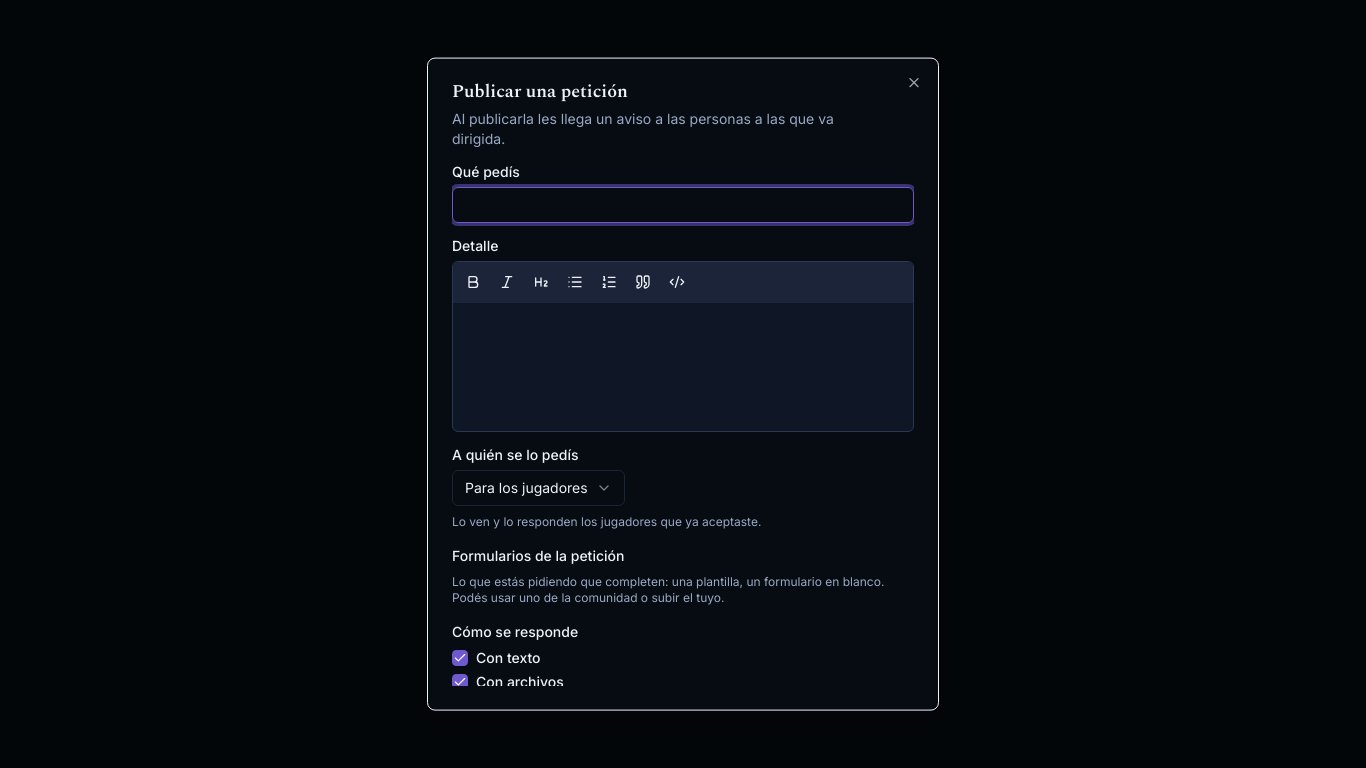
TaskFormDialog › offers only the table players as recipients
Click the dropdown named "A quién se lo pedís" at coordinates (538, 488), box [452,470,625,506]
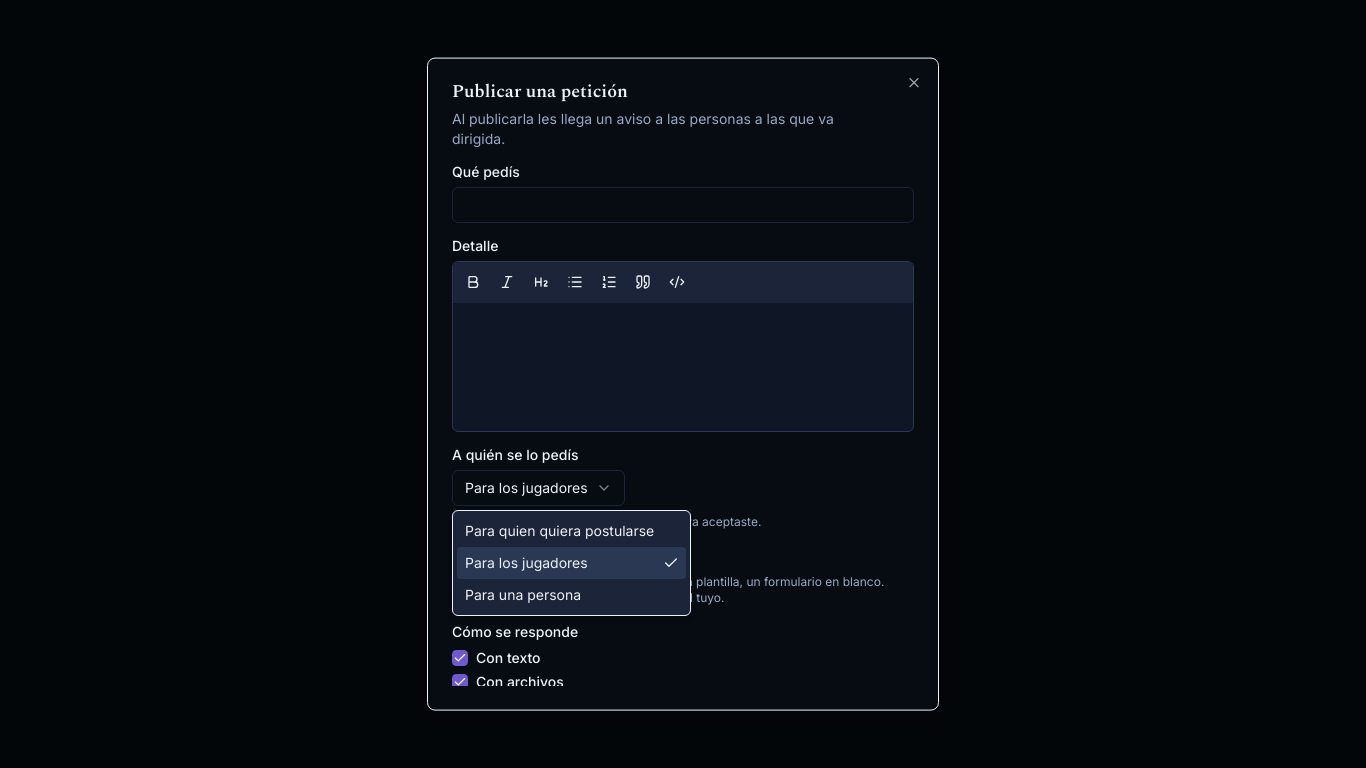
Click the option "Para una persona" at coordinates (523, 594), box [465,586,581,603]
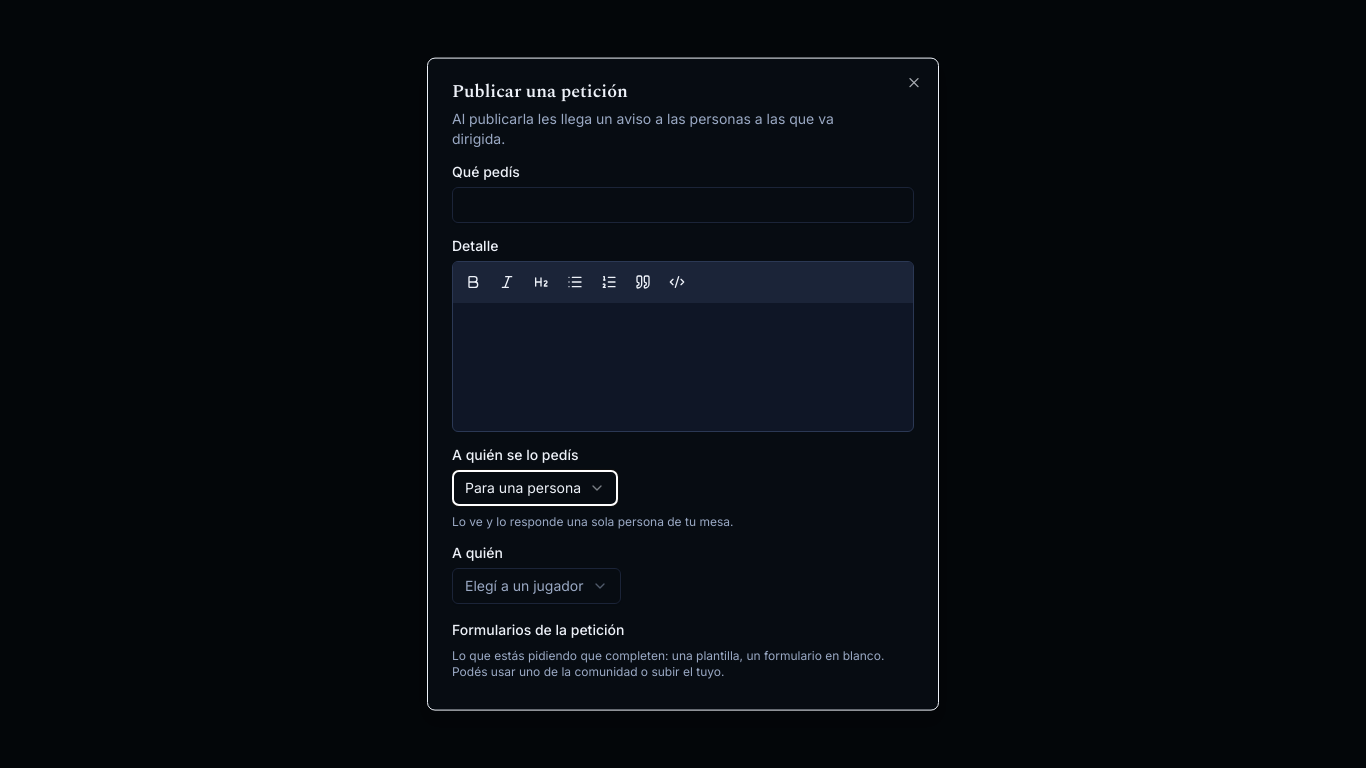
Click the dropdown named "A quién" at coordinates (536, 586), box [452,568,620,604]
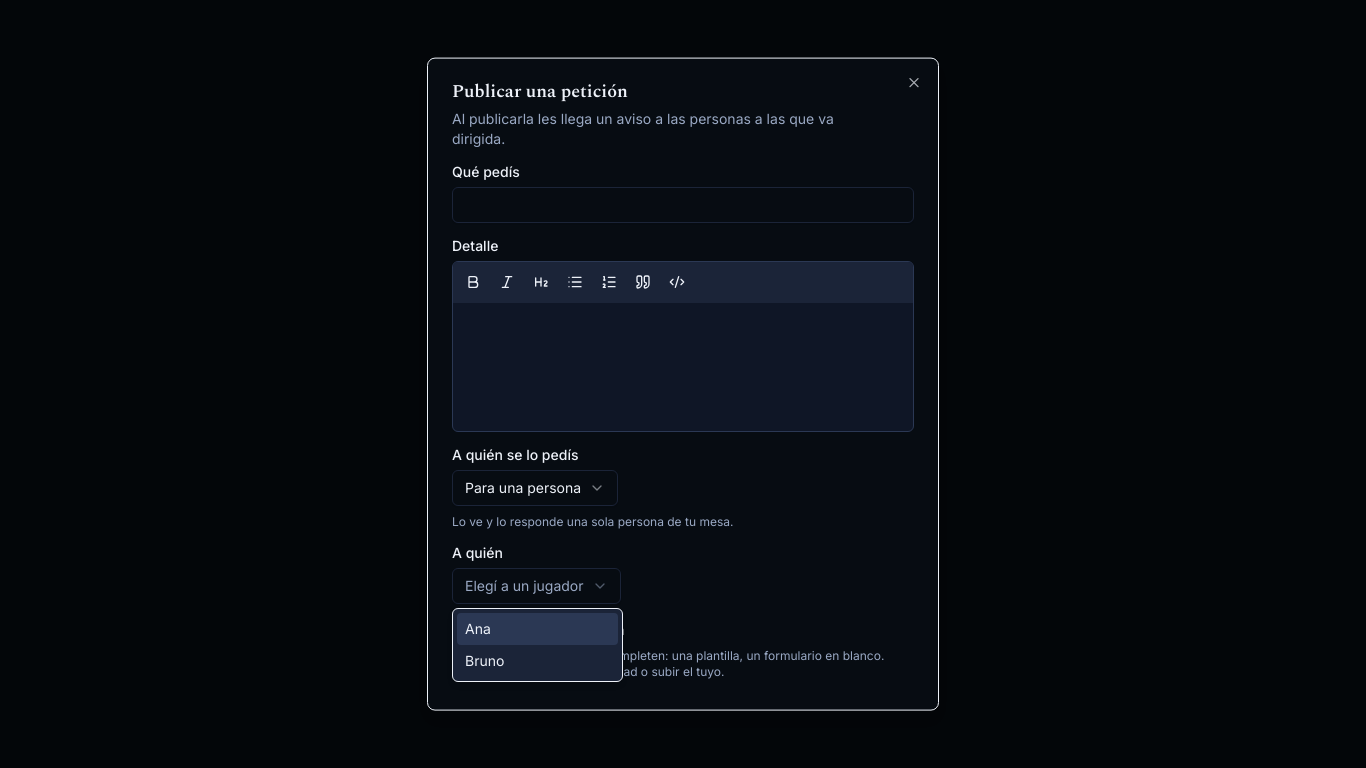
Expected: the option "Ana" is shown, [457,613,618,645]
Expected: the option "Bruno" is shown, [465,652,504,669]
